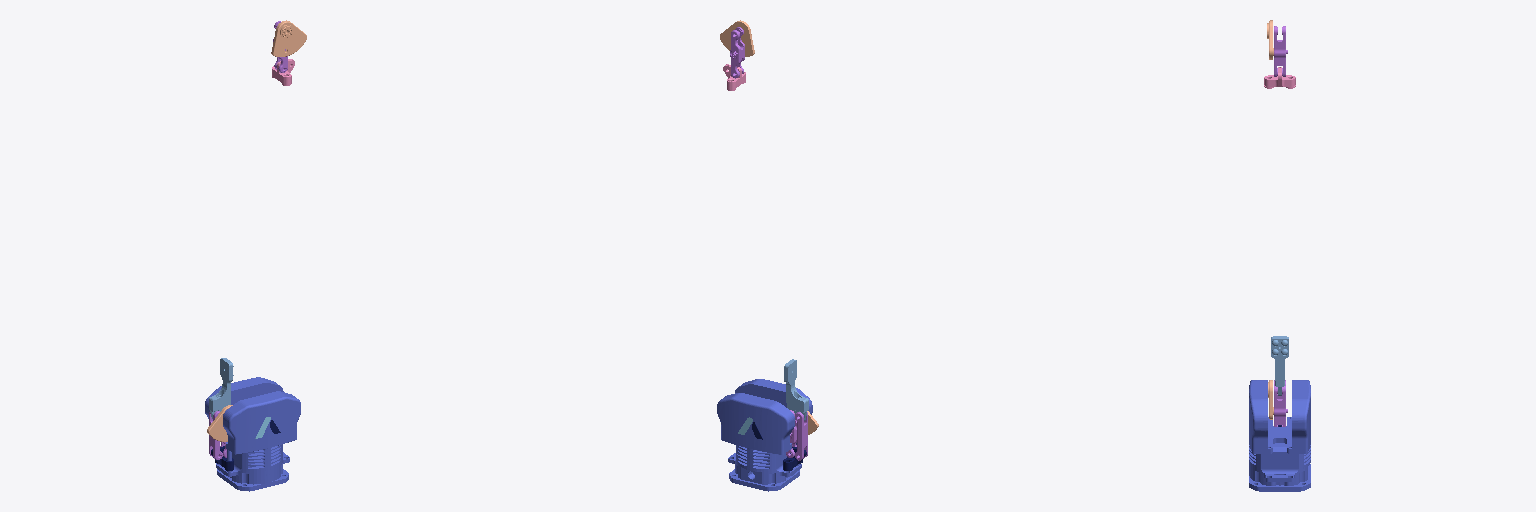
The robot description file, URDF, robot "susgrip_description":
<?xml version="1.0" encoding="utf-8"?>
<!--
    susgrip_2f.urdf
    author : hong xiem
    date : 25Mar24
    Licensed under the BSD-3-Clause
    Copyright (c) 2025 Tesollo Inc.
    See LICENSE file for details.
-->

<robot
  name="susgrip_description">

  <material name="color_base">
    <color rgba="0.423529 0.494118 0.882353 1.0" />
  </material>
  <material name="color_finger">
    <color rgba="0.572549 0.72549 0.890196 1.0" />
  </material>
  <material name="color_pad">
    <color rgba="1.0 0.768627 0.643137 1.0" />
  </material>
  <material name="color_link">
    <color rgba="0.776471 0.533333 0.921569 1.0" />
  </material>
  <material name="color_slider">
    <color rgba="0.984314 0.635294 0.815686 1.0" />
  </material>
  <material name="color_A1">
    <color rgba="0.627450 0.866666 1 1" />
  </material>
  <material name="color_A2">
    <color rgba="0.129411 0.172549 0.407843 1" />
  </material>
  
<!-- *************************** world link ************************************* -->
  <link name="world"/>
  <joint name="world_to_base" type="fixed">
      <parent link="world"/>
      <child link="sus2f_base_link"/>
      <origin xyz="0 0 0" rpy="0 0 0"/>
  </joint>

<!-- *************************** base link ************************************* -->
  <link
    name="sus2f_base_link">
    <!-- <inertial>
      <origin
        xyz="0. 0. 0.06"
        rpy="-1.570796 0. 0." />
      <mass
        value="0.148118292371017" />
      <inertia
        ixx="0.000127380225676606"
        ixy="2.45032695761012E-06"
        ixz="-4.42797188296029E-07"
        iyy="0.000134249396452626"
        iyz="-1.25005318301663E-07"
        izz="0.000126530130055728" />
    </inertial> -->
    <visual>
      <origin
        xyz="0. 0. 0.06"
        rpy="-1.570796 0. 0." />
      <geometry>
        <mesh
          filename="../meshes/susgrip_2f_full/SUS_2F_Base.STL"
          />
      </geometry>
      <material
        name="color_base">
      </material>
    </visual>
    <visual>
      <origin
        xyz="-0.041 0.0125 0.02"
        rpy="1.570796 0 3.141592" />
      <geometry>
        <mesh
          filename="../meshes/susgrip_2f_full/SUS_2F_ShaftPhi_0.STL"
          />
      </geometry>
      <material
        name="color_base">
      </material>
    </visual>
    <visual>
      <origin
        xyz="-0.041 -0.0125 0.02"
        rpy="1.570796 0 3.141592" />
      <geometry>
        <mesh
          filename="../meshes/susgrip_2f_full/SUS_2F_ShaftPhi_1.STL"
          />
      </geometry>
      <material
        name="color_base">
      </material>
    </visual>
    <visual>
      <origin
        xyz="0.041 0.0125 0.02"
        rpy="1.570796 0 3.141592" />
      <geometry>
        <mesh
          filename="../meshes/susgrip_2f_full/SUS_2F_ShaftPhi_2.STL"
          />
      </geometry>
      <material
        name="color_base">
      </material>
    </visual>
    <visual>
      <origin
        xyz="0.041 -0.0125 0.02"
        rpy="1.570796 0 3.141592" />
      <geometry>
        <mesh
          filename="../meshes/susgrip_2f_full/SUS_2F_ShaftPhi_3.STL"
          />
      </geometry>
      <material
        name="color_base">
      </material>
    </visual>

    <visual>
      <origin
        xyz="0.0184 0.027 0.07"
        rpy="0 3.141592 3.141592" />
      <geometry>
        <mesh
          filename="../meshes/susgrip_2f_full/SUS_2F_A1.obj"
          />
      </geometry>
      <material
        name="color_A1">
      </material>
    </visual>
    <visual>
      <origin
        xyz="-0.0184 0.027 0.07"
        rpy="0 3.141592 3.141592" />
      <geometry>
        <mesh
          filename="../meshes/susgrip_2f_full/SUS_2F_A2.obj"
          />
      </geometry>
      <material
        name="color_A2">
      </material>
    </visual>
    <visual>
      <origin
        xyz="-0.0184 -0.027 0.07"
        rpy="0 3.141592 0" />
      <geometry>
        <mesh
          filename="../meshes/susgrip_2f_full/SUS_2F_A1.obj"
          />
      </geometry>
      <material
        name="color_A1">
      </material>
    </visual>
    <visual>
      <origin
        xyz="0.0184 -0.027 0.07"
        rpy="0 3.141592 0" />
      <geometry>
        <mesh
          filename="../meshes/susgrip_2f_full/SUS_2F_A2.obj"
          />
      </geometry>
      <material
        name="color_A2">
      </material>
    </visual>

    <collision>
      <origin
        xyz="0. 0. 0.06"
        rpy="-1.570796 0. 0." />  
      <geometry>
        <mesh
          filename="../meshes/susgrip_2f_full/SUS_2F_Base.STL"
          />
      </geometry>
    </collision>
  </link>

<!-- *************************** slider l link ************************************* -->

  <link name="sus2f_slider_l_link">
    <inertial>
      <origin
        xyz="0. 0. 0."
        rpy="0. 0. 0." />
      <mass
        value="0.0050621" />
      <inertia
        ixx="5.5156E-07"
        ixy="1.1032E-07"
        ixz="-8.5308E-08"
        iyy="3.9645E-07"
        iyz="1.1084E-07"
        izz="4.9988E-07" />
    </inertial>
    <visual>
      <origin
        xyz="0. 0. 0."
        rpy="0. 0. 0." />
      <geometry>
        <mesh
          filename="../meshes/susgrip_2f_full/SUS_2F_Slider_L.obj" />
      </geometry>
      <material
        name="">
        <color rgba="0.129411 0.172549 0.407843 1" />
      </material>
    </visual>
    <collision>
      <origin
        xyz="0. 0. 0."
        rpy="0. 0. 0." />
      <geometry>
        <mesh
          filename="../meshes/susgrip_2f_full/SUS_2F_Slider_L.obj"/>
      </geometry>
    </collision>
  </link>
  <joint
    name="base_slider_l_joint"
    type="prismatic">
    <limit effort="100.0" lower="0.0" upper="0.015" velocity="0.5"/>
    <origin
      xyz="0. 0. 0."
      rpy="0. 0. 0." />
    <parent
      link="sus2f_base_link" />
    <child
      link="sus2f_slider_l_link" />
    <axis
      xyz="0 0 1" />
  </joint>

<!-- *************************** outer l link ************************************* -->

  <link name="sus2f_outer_l_link">
    <inertial>
      <origin
        xyz="0. 0. 0."
        rpy="0. 0. 0." />
      <mass
        value="0.0050621" />
      <inertia
        ixx="5.5156E-07"
        ixy="1.1032E-07"
        ixz="-8.5308E-08"
        iyy="3.9645E-07"
        iyz="1.1084E-07"
        izz="4.9988E-07" />
    </inertial>
    <visual>
      <origin
        xyz="0.053 0. -0.043"
        rpy="0. 0. 0." />
      <geometry>
        <mesh
          filename="../meshes/susgrip_2f_full/SUS_2F_Outer_L.obj" />
      </geometry>
      <material
        name="color_link">
      </material>
    </visual>
    <collision>
      <origin
        xyz="0.053 0. -0.043"
        rpy="0. 0. 0." />
      <geometry>
        <mesh
          filename="../meshes/susgrip_2f_full/SUS_2F_Outer_L.obj"/>
      </geometry>
    </collision>
  </link>
  <joint
    name="slider_outer_l_joint"
    type="continuous">
    <limit effort="100.0" lower="-1.5" upper="1.5" velocity="0.5"/>
    <origin
      xyz="-0.053 0. 0.043"
      rpy="0. 0. 0." />
    <parent
      link="sus2f_slider_l_link" />
    <child
      link="sus2f_outer_l_link" />
    <axis
      xyz="0 1 0" />
  </joint>

<!-- *************************** finger l link ************************************* -->

  <link name="sus2f_finger_l_link">
    <inertial>
      <origin
        xyz="0 0 0"
        rpy="0 0 0"/>
      <mass
        value="0.0050621" />
      <inertia
        ixx="5.5156E-07"
        ixy="1.1032E-07"
        ixz="-8.5308E-08"
        iyy="3.9645E-07"
        iyz="1.1084E-07"
        izz="4.9988E-07" />
    </inertial>
    <visual>
      <origin
        xyz="0.053 0 -0.097"
        rpy="0 0 0" />
      <geometry>
        <mesh
          filename="../meshes/susgrip_2f_full/SUS_2F_Finger_L.obj" />
      </geometry>
      <material
        name="color_finger">
      </material>
    </visual>
    <collision>
      <origin
        xyz="0.053 0 -0.097"
        rpy="0 0 0" />
      <geometry>
        <mesh
          filename="../meshes/susgrip_2f_full/SUS_2F_Finger_L.obj"/>
      </geometry>
    </collision>
  </link>

  
  <joint
    name="finger_outer_l_joint"
    type="continuous">
    <origin
      xyz="0.0 0. 0.054"
      rpy="0. 0. 0." />
    <parent
      link="sus2f_outer_l_link" />
    <child
      link="sus2f_finger_l_link" />
    <axis
      xyz="0 1 0" />
  </joint>

<!-- *************************** inner l link ************************************* -->

  <link name="sus2f_inner_l_link">
    <inertial>
      <origin
        xyz="0. 0. 0."
        rpy="0. 0. 0." />
      <mass
        value="0.0050621" />
      <inertia
        ixx="5.5156E-07"
        ixy="1.1032E-07"
        ixz="-8.5308E-08"
        iyy="3.9645E-07"
        iyz="1.1084E-07"
        izz="4.9988E-07" />
    </inertial>
    <visual>
      <origin
        xyz="0.04 0. -0.097"
        rpy="0. 0. 0." />
      <geometry>
        <mesh
          filename="../meshes/susgrip_2f_full/SUS_2F_Inner_L.obj" />
      </geometry>
      <material
        name="color_link">
      </material>
    </visual>
    <collision>
      <origin
        xyz="0.04 0. -0.097"
        rpy="0. 0. 0." />
      <geometry>
        <mesh
          filename="../meshes/susgrip_2f_full/SUS_2F_Inner_L.obj"/>
      </geometry>
    </collision>
  </link>
  <joint
    name="finger_inner_l_joint"
    type="continuous">
    <origin
      xyz="0.013 0. 0."
      rpy="0. 0. 0." />
    <parent
      link="sus2f_finger_l_link" />
    <child
      link="sus2f_inner_l_link" />
    <axis
      xyz="0 1 0" />
  </joint>

<!-- *************************** pad l link ************************************* -->

  <link name="sus2f_pad_l_link">
    <inertial>
      <origin
        xyz="0. 0. 0."
        rpy="0. 0. 0." />
      <mass
        value="0.0050621" />
      <inertia
        ixx="5.5156E-07"
        ixy="1.1032E-07"
        ixz="-8.5308E-08"
        iyy="3.9645E-07"
        iyz="1.1084E-07"
        izz="4.9988E-07" />
    </inertial>
    <visual>
      <origin
        xyz="0. 0.016 0.027"
        rpy="0. 0. -1.570796" />
      <geometry>
        <mesh
          filename="../meshes/susgrip_2f_full/SUS_2F_Pad_L.obj" />
      </geometry>
      <material
        name="color_pad">
      </material>
    </visual>
    <collision>
      <origin
        xyz="0. 0.016 0.027"
        rpy="0. 0. -1.570796" />
      <geometry>
        <mesh
          filename="../meshes/susgrip_2f_full/SUS_2F_Pad_L.obj"/>
      </geometry>
    </collision>
  </link>

  <joint
    name="pad_inner_l_joint"
    type="continuous">
    <limit effort="100.0" velocity="0.5"/>
    <origin
      xyz="0. 0. -0.027"
      rpy="0. 0. 0." />
    <parent
      link="sus2f_inner_l_link" />
    <child
      link="sus2f_pad_l_link" />
    <axis
      xyz="0 1 0" />
  </joint>

<!-- *************************** passive pad l link ************************************* -->

  <link name="sus2f_passive_pad_l_link">
    <inertial>
      <origin
        xyz="0. 0. 0."
        rpy="0. 0. 0." />
      <mass
        value="0.0050621" />
      <inertia
        ixx="5.5156E-07"
        ixy="1.1032E-07"
        ixz="-8.5308E-08"
        iyy="3.9645E-07"
        iyz="1.1084E-07"
        izz="4.9988E-07" />
    </inertial>
    <visual>
      <origin
        xyz="0. -0.016 0.027"
        rpy="0. 0. 1.570796" />
      <geometry>
        <mesh
          filename="../meshes/susgrip_2f_full/SUS_2F_Passive_Link_L.obj" />
      </geometry>
      <material
        name="color_pad">
      </material>
    </visual>
    <collision>
      <origin
        xyz="0. -0.016 0.027"
        rpy="0. 0. 1.570796" />
      <geometry>
        <mesh
          filename="../meshes/susgrip_2f_full/SUS_2F_Passive_Link_L.obj"/>
      </geometry>
    </collision>
  </link>

  <joint
    name="passive_pad_inner_l_joint"
    type="continuous">
    <limit effort="100.0" velocity="0.5"/>
    <origin
      xyz="0. 0. -0.027"
      rpy="0. 0. 0." />
    <parent
      link="sus2f_inner_l_link" />
    <child
      link="sus2f_passive_pad_l_link" />
    <axis
      xyz="0 1 0" />
  </joint>

<!-- ************************************************************************
*************************** right slide *************************************
***************************************************************************** -->

  <link name="sus2f_slider_r_link">
    <inertial>
      <origin
        xyz="0. 0. 0."
        rpy="0. 0. 0." />
      <mass
        value="0.0050621" />
      <inertia
        ixx="5.5156E-07"
        ixy="1.1032E-07"
        ixz="-8.5308E-08"
        iyy="3.9645E-07"
        iyz="1.1084E-07"
        izz="4.9988E-07" />
    </inertial>
    <visual>
      <origin
        xyz="0. 0. 0."
        rpy="0. 0. 0." />
      <geometry>
        <mesh
          filename="../meshes/susgrip_2f_full/SUS_2F_Slider_R.obj" />
      </geometry>
      <material
        name="color_slider">
      </material>
    </visual>
    <collision>
      <origin
        xyz="0. 0. 0."
        rpy="0. 0. 0." />
      <geometry>
        <mesh
          filename="../meshes/susgrip_2f_full/SUS_2F_Slider_R.obj"/>
      </geometry>
    </collision>
  </link>
  <joint
    name="base_slider_r_joint"
    type="prismatic">
    <limit effort="100.0" lower="1" upper="0.015" velocity="0.5"/>
    <origin
      xyz="0. 0. 0."
      rpy="0. 0. 0." />
    <parent
      link="sus2f_base_link" />
    <child
      link="sus2f_slider_r_link" />
    <axis
      xyz="0 0 1" />
  </joint>

<!-- *************************** outer r link ************************************* -->

  <link name="sus2f_outer_r_link">
    <inertial>
      <origin
        xyz="0. 0. 0."
        rpy="0. 0. 0." />
      <mass
        value="0.0050621" />
      <inertia
        ixx="5.5156E-07"
        ixy="1.1032E-07"
        ixz="-8.5308E-08"
        iyy="3.9645E-07"
        iyz="1.1084E-07"
        izz="4.9988E-07" />
    </inertial>
    <visual>
      <origin
        xyz="-0.053 0. -0.043"
        rpy="0. 0. 3.141593" />
      <geometry>
        <mesh
          filename="../meshes/susgrip_2f_full/SUS_2F_Outer_R.obj" />
      </geometry>
      <material
        name="color_link">
      </material>
    </visual>
    <collision>
      <origin
        xyz="-0.053 0. -0.043"
        rpy="0. 0. 3.141592" />
      <geometry>
        <mesh
          filename="../meshes/susgrip_2f_full/SUS_2F_Outer_R.obj"/>
      </geometry>
    </collision>
  </link>
  <joint
    name="slider_outer_r_joint"
    type="continuous">
    <limit effort="100.0" lower="-1.5" upper="1.5" velocity="0.5"/>
    <origin
      xyz="0.053 0. 0.043"
      rpy="0. 0. 0." />
    <parent
      link="sus2f_slider_r_link" />
    <child
      link="sus2f_outer_r_link" />
    <axis
      xyz="0 1 0" />
  </joint>

<!-- *************************** finger r link ************************************* -->

  <link name="sus2f_finger_r_link">
    <inertial>
      <origin
        xyz="0 0 0"
        rpy="0 0 0"/>
      <mass
        value="0.0050621" />
      <inertia
        ixx="5.5156E-07"
        ixy="1.1032E-07"
        ixz="-8.5308E-08"
        iyy="3.9645E-07"
        iyz="1.1084E-07"
        izz="4.9988E-07" />
    </inertial>
    <visual>
      <origin
        xyz="0.053 0 -0.097"
        rpy="0 0 0" />
      <geometry>
        <mesh
          filename="../meshes/susgrip_2f_full/SUS_2F_Finger_R.obj" />
      </geometry>
      <material
        name="color_finger">
      </material>
    </visual>
    <collision>
      <origin
        xyz="0.053 0 -0.097"
        rpy="0 0 0" />
      <geometry>
        <mesh
          filename="../meshes/susgrip_2f_full/SUS_2F_Finger_R.obj"/>
      </geometry>
    </collision>
  </link>
  <joint
    name="finger_outer_r_joint"
    type="continuous">
    <origin
      xyz="0.0 0. 0.054"
      rpy="0. 0. 3.141592" />
    <parent
      link="sus2f_outer_r_link" />
    <child
      link="sus2f_finger_r_link" />
    <axis
      xyz="0 1 0" />
  </joint>

<!-- *************************** inner r link ************************************* -->

  <link name="sus2f_inner_r_link">
    <inertial>
      <origin
        xyz="0. 0. 0."
        rpy="0. 0. 0." />
      <mass
        value="0.0050621" />
      <inertia
        ixx="5.5156E-07"
        ixy="1.1032E-07"
        ixz="-8.5308E-08"
        iyy="3.9645E-07"
        iyz="1.1084E-07"
        izz="4.9988E-07" />
    </inertial>
    <visual>
      <origin
        xyz="0.04 0. -0.097"
        rpy="0. 0. 3.141592" />
      <geometry>
        <mesh
          filename="../meshes/susgrip_2f_full/SUS_2F_Inner_R.obj" />
      </geometry>
      <material
        name="color_link">
      </material>
    </visual>
    <collision>
      <origin
        xyz="0.04 0. -0.097"
        rpy="0. 0. 3.141592" />
      <geometry>
        <mesh
          filename="../meshes/susgrip_2f_full/SUS_2F_Inner_R.obj"/>
      </geometry>
    </collision>
  </link>
  <joint
    name="finger_inner_r_joint"
    type="continuous">
    <origin
      xyz="0.013 0. 0."
      rpy="0. 0. 3.141592" />
    <parent
      link="sus2f_finger_r_link" />
    <child
      link="sus2f_inner_r_link" />
    <axis
      xyz="0 1 0" />
  </joint>

<!-- *************************** pad r link ************************************* -->

  <link name="sus2f_pad_r_link">
    <inertial>
      <origin
        xyz="0. 0. 0."
        rpy="0. 0. 0." />
      <mass
        value="0.0050621" />
      <inertia
        ixx="5.5156E-07"
        ixy="1.1032E-07"
        ixz="-8.5308E-08"
        iyy="3.9645E-07"
        iyz="1.1084E-07"
        izz="4.9988E-07" />
    </inertial>
    <visual>
      <origin
        xyz="0. -0.016 0.027"
        rpy="0. 0. 1.570796" />
      <geometry>
        <mesh
          filename="../meshes/susgrip_2f_full/SUS_2F_Pad_R.obj" />
      </geometry>
      <material
        name="color_pad">
      </material>
    </visual>
    <collision>
      <origin
        xyz="0. -0.016 0.027"
        rpy="0. 0. 1.570796" />
      <geometry>
        <mesh
          filename="../meshes/susgrip_2f_full/SUS_2F_Pad_R.obj"/>
      </geometry>
    </collision>
  </link>

  <joint
    name="pad_inner_r_joint"
    type="continuous">
    <limit effort="100.0" velocity="0.5"/>
    <origin
      xyz="0. 0. -0.027"
      rpy="0. 0. 0." />
    <parent
      link="sus2f_inner_r_link" />
    <child
      link="sus2f_pad_r_link" />
    <axis
      xyz="0 1 0" />
  </joint>

<!-- *************************** passive pad l link ************************************* -->

  <link name="sus2f_passive_pad_r_link">
    <inertial>
      <origin
        xyz="0. 0. 0."
        rpy="0. 0. 0." />
      <mass
        value="0.0050621" />
      <inertia
        ixx="5.5156E-07"
        ixy="1.1032E-07"
        ixz="-8.5308E-08"
        iyy="3.9645E-07"
        iyz="1.1084E-07"
        izz="4.9988E-07" />
    </inertial>
    <visual>
      <origin
        xyz="0. 0.016 0.027"
        rpy="0. 0. -1.570796" />
      <geometry>
        <mesh
          filename="../meshes/susgrip_2f_full/SUS_2F_Passive_Link_R.obj" />
      </geometry>
      <material
        name="color_pad">
      </material>
    </visual>
    <collision>
      <origin
        xyz="0. 0.016 0.027"
        rpy="0. 0. -1.570796" />
      <geometry>
        <mesh
          filename="../meshes/susgrip_2f_full/SUS_2F_Passive_Link_R.obj"/>
      </geometry>
    </collision>
  </link>

  <joint
    name="passive_pad_inner_r_joint"
    type="continuous">
    <limit effort="100.0" velocity="0.5"/>
    <origin
      xyz="0. 0. -0.027"
      rpy="0. 0. 0." />
    <parent
      link="sus2f_inner_r_link" />
    <child
      link="sus2f_passive_pad_r_link" />
    <axis
      xyz="0 1 0" />
  </joint>

</robot>

--- What the picture shows (computed from the rendered views, not written in the file) ---
Views: 3 orthographic renders of the robot side by side, from view 1: azimuth 30°, elevation 25°; view 2: azimuth 150°, elevation 25°; view 3: azimuth 270°, elevation 25°.
Robot: susgrip_description — 14 links, 13 joints (10 continuous, 2 prismatic, 1 fixed); root link world; default pose: joints at zero except 1 at the middle of their limits (base_slider_r_joint = 0.5075).
Links seen in each view (by area): view 1: sus2f_base_link, sus2f_pad_r_link, sus2f_finger_l_link; view 2: sus2f_base_link, sus2f_finger_l_link, sus2f_inner_r_link, sus2f_pad_r_link; view 3: sus2f_base_link, sus2f_finger_l_link.
Boxes of the visible links, x1,y1,x2,y2 form: sus2f_base_link: [205, 377, 300, 491]; sus2f_pad_r_link: [271, 20, 306, 56]; sus2f_finger_l_link: [209, 358, 233, 418]; sus2f_base_link: [717, 379, 812, 491]; sus2f_finger_l_link: [784, 359, 808, 420]; sus2f_inner_r_link: [730, 27, 744, 78]; sus2f_pad_r_link: [720, 20, 754, 56]; sus2f_base_link: [1249, 380, 1310, 491]; sus2f_finger_l_link: [1271, 336, 1288, 395].
Size in the robot's own frame: 0.1414 by 0.074 by 0.617 metres.
14 mesh visuals loaded from 19 distinct referenced files (2 binary STL, 10 OBJ); not drawn: 7 (reference not matched to a file when rendering).
